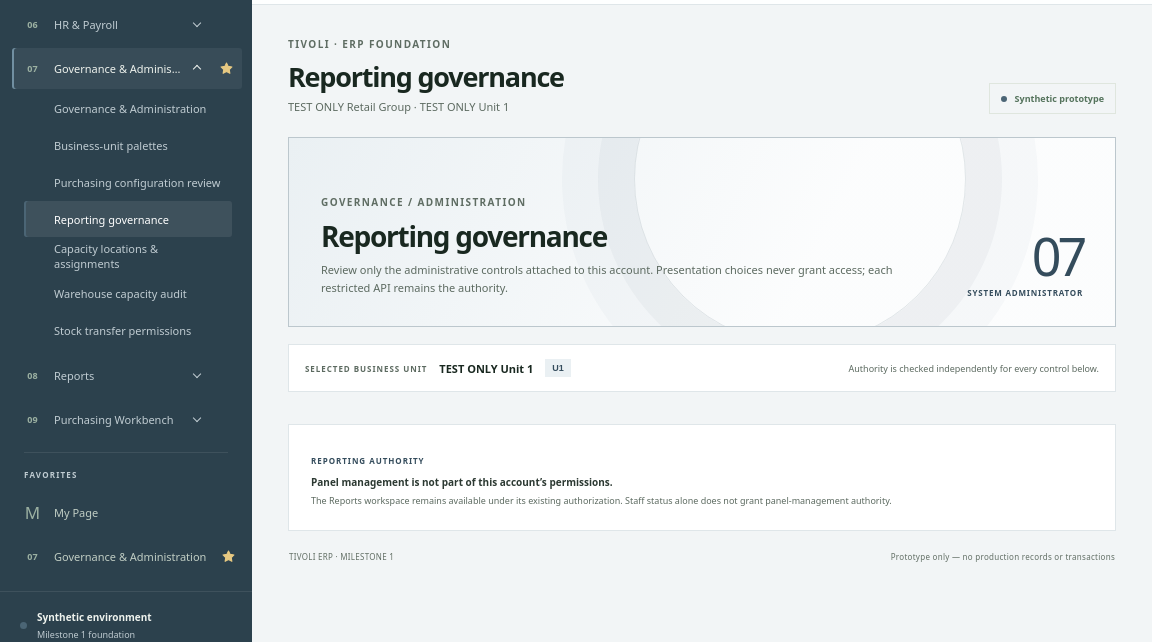
it: Governance Favorite opens its overview and each authorized child mounts only its function
(page scrolled)
Click the 9th button with class "nav-item": (113, 556) [12, 536, 214, 576]
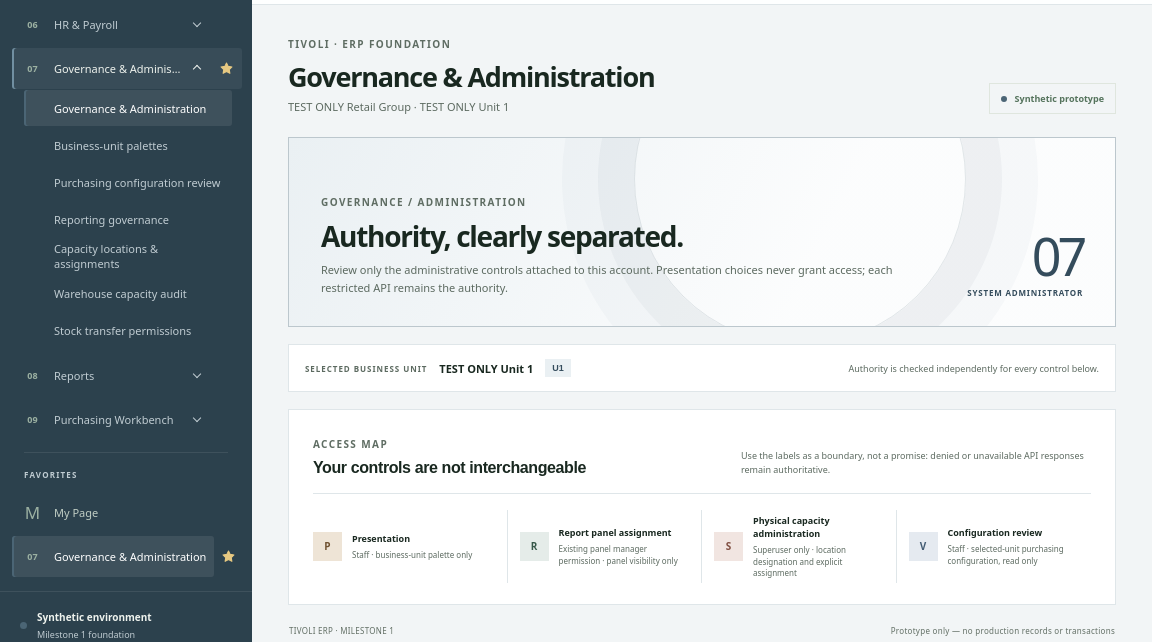
Result: the text "Authority, clearly separated" is shown at [321, 217, 683, 255]
Result: the element that starts with "ACCESS MAP" is shown at [288, 409, 1116, 605]
Click the button "Business-unit palettes": (128, 145) [24, 127, 232, 163]
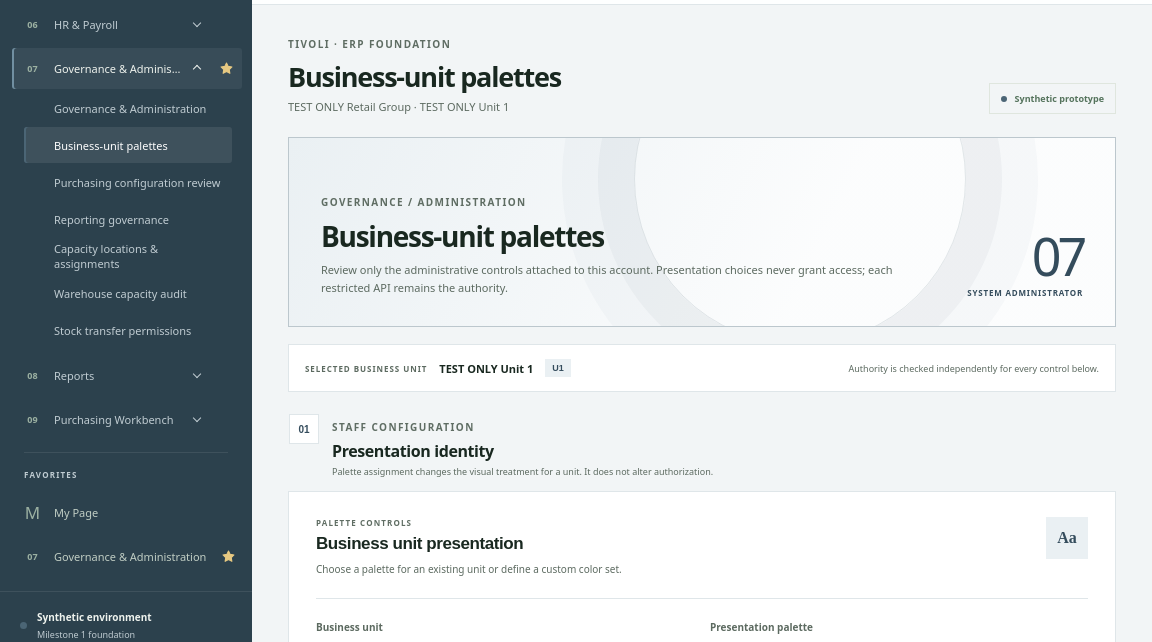
Click the button "Purchasing configuration review": (128, 182) [24, 164, 232, 200]
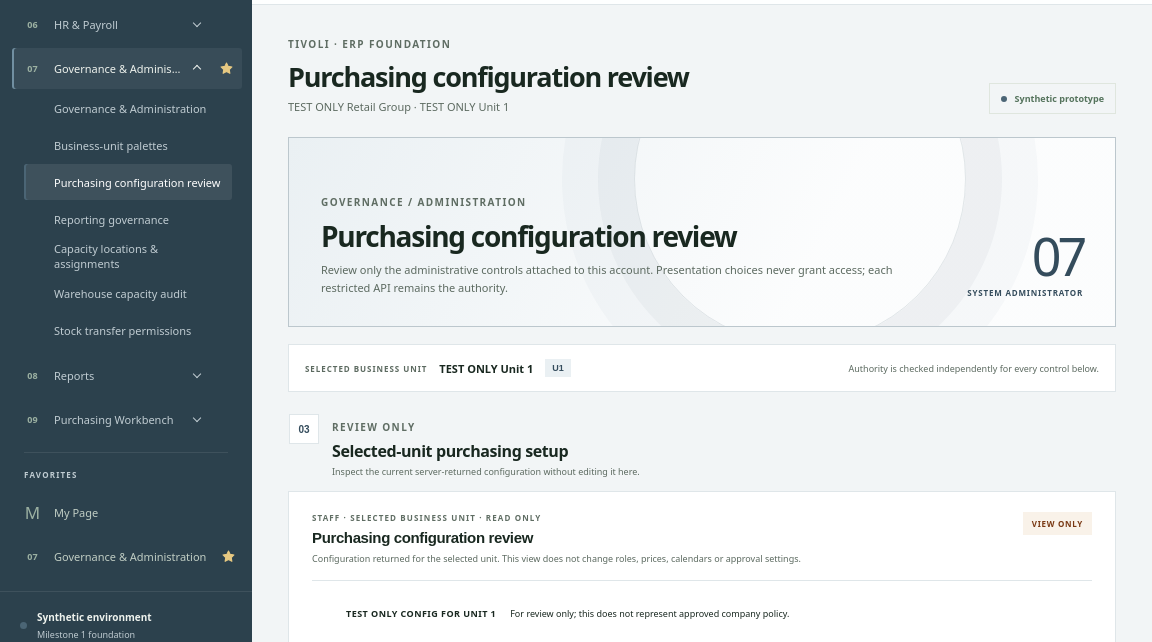
Click the button "Reporting governance": (128, 219) [24, 201, 232, 237]
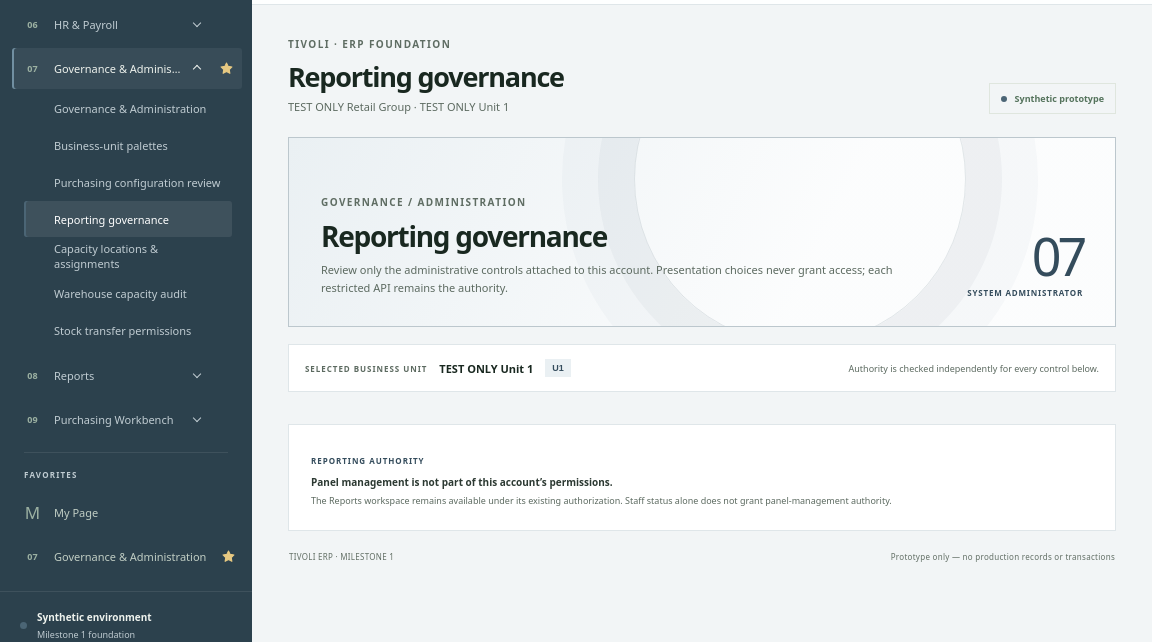
Result: the element with class "governance-report-boundary" is shown at [288, 424, 1116, 530]
Click the button "Capacity locations & assignments": (128, 256) [24, 238, 232, 274]
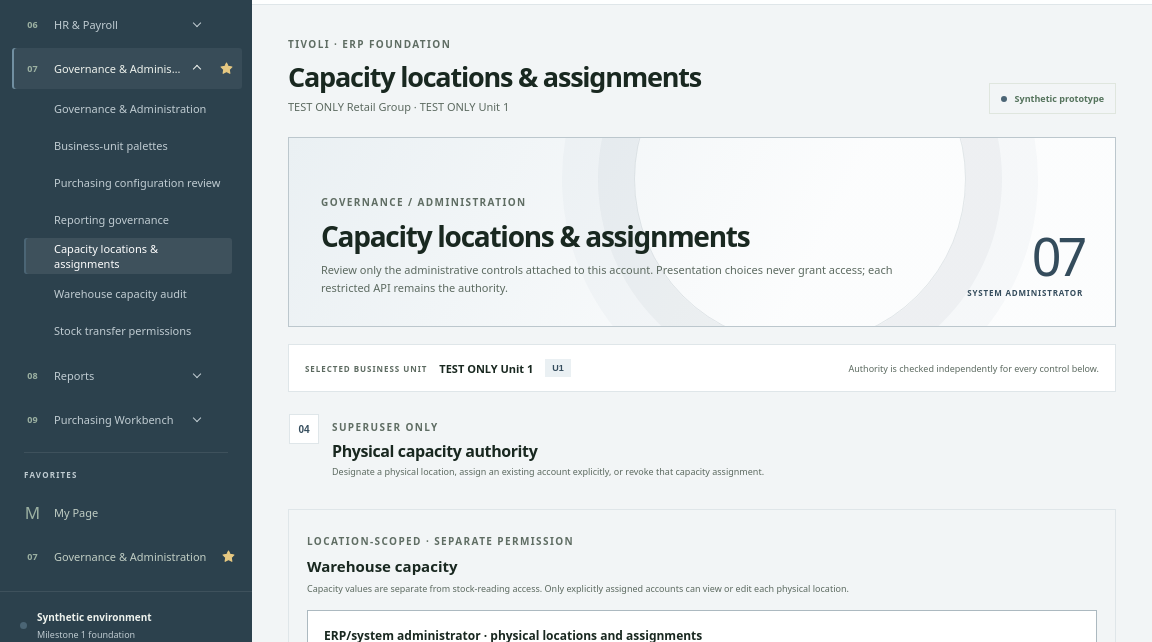
Click the button "Warehouse capacity audit": (128, 293) [24, 275, 232, 311]
(page scrolled)
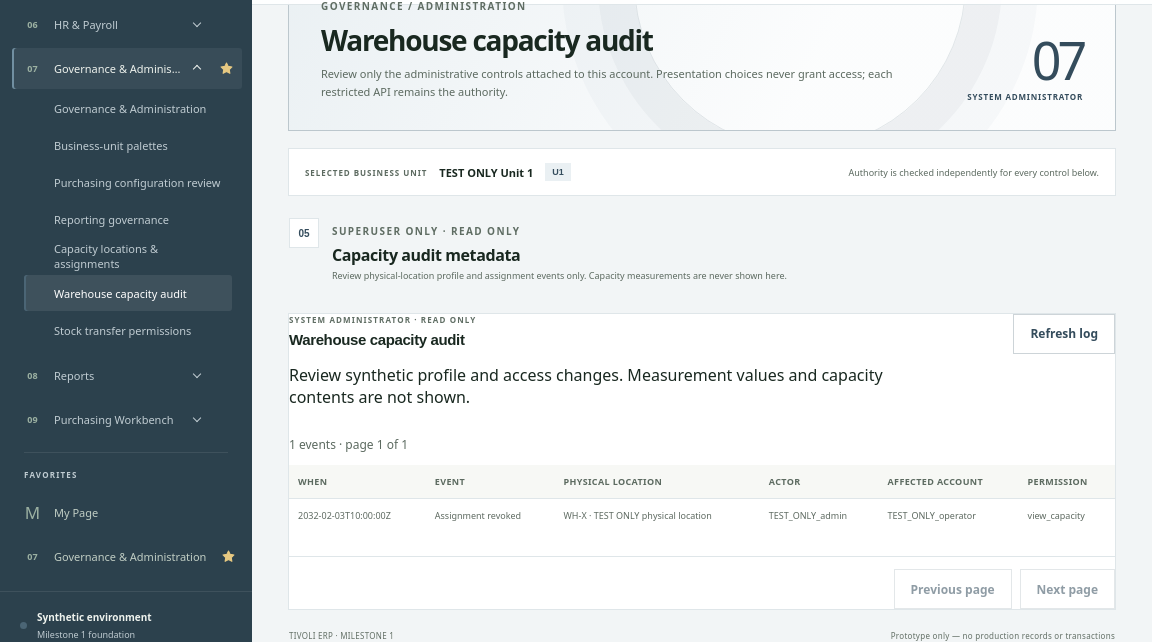
Result: the element with class "capacity-audit-register" is shown at [288, 313, 1116, 610]
